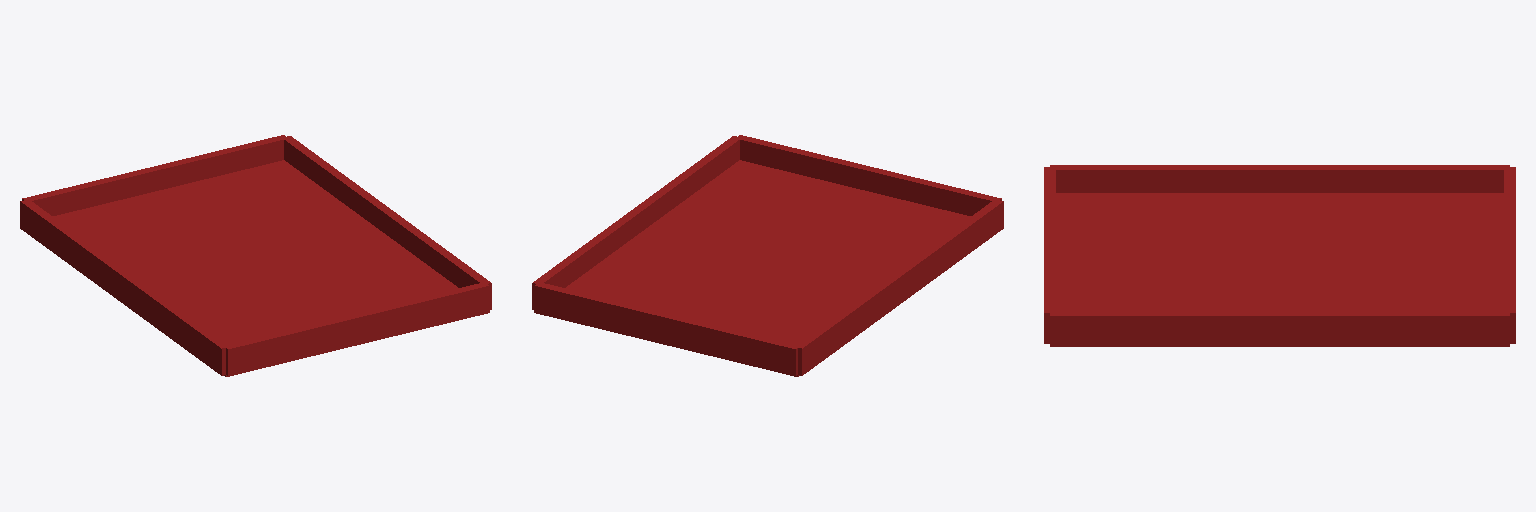
The robot description file, URDF, robot "tray":
<?xml version="1.0"?>
<robot name="tray"
       xmlns:xi="http://www.w3.org/2001/XInclude"
       xmlns:gazebo="http://playerstage.sourceforge.net/gazebo/xmlschema/#gz"
       xmlns:model="http://playerstage.sourceforge.net/gazebo/xmlschema/#model"
       xmlns:sensor="http://playerstage.sourceforge.net/gazebo/xmlschema/#sensor"
       xmlns:body="http://playerstage.sourceforge.net/gazebo/xmlschema/#body"
       xmlns:geom="http://playerstage.sourceforge.net/gazebo/xmlschema/#geom"
       xmlns:joint="http://playerstage.sourceforge.net/gazebo/xmlschema/#joint"
       xmlns:interface="http://playerstage.sourceforge.net/gazebo/xmlschema/#interface"
       xmlns:rendering="http://playerstage.sourceforge.net/gazebo/xmlschema/#rendering"
       xmlns:renderable="http://playerstage.sourceforge.net/gazebo/xmlschema/#renderable"
       xmlns:controller="http://playerstage.sourceforge.net/gazebo/xmlschema/#controller"
       xmlns:physics="http://playerstage.sourceforge.net/gazebo/xmlschema/#physics">
  <gazebo>
    <static>false</static>
  </gazebo>
  <link name="nil_link">
    <visual>
      <origin xyz="0 0 0" rpy="0 -0 0"/>
      <geometry>
        <mesh filename="model://tray/meshes/nil_link_mesh.dae" scale="1 1 1" />
      </geometry>
    </visual>
    <collision>
      <origin xyz="0 0 0" rpy="0 -0 0"/>
      <geometry>
        <mesh filename="model://tray/meshes/nil_link_mesh.dae" scale="1 1 1" />
      </geometry>
    </collision>
    <inertial>
      <mass value="0.001" />
      <origin xyz="0 0 0" rpy="0 -0 0"/>
      <inertia ixx="1e-09" ixy="0" ixz="0" iyy="1e-09" iyz="0" izz="1e-09"/>
    </inertial>
  </link>
  <gazebo reference="nil_link">
    <mu1>0.9</mu1>
    <mu2>0.9</mu2>
  </gazebo>
</robot>

--- What the picture shows (computed from the rendered views, not written in the file) ---
Views: 3 orthographic renders of the robot side by side, from view 1: azimuth 30°, elevation 25°; view 2: azimuth 150°, elevation 25°; view 3: azimuth 270°, elevation 25°.
Robot: tray — 1 links, 0 joints (none); root link nil_link; default pose: every joint at zero.
Visible links, largest first — view 1: nil_link; view 2: nil_link; view 3: nil_link.
Boxes of the visible links, left/top/right/bottom form: nil_link: left=20, top=135, right=491, bottom=376; nil_link: left=532, top=135, right=1003, bottom=376; nil_link: left=1044, top=165, right=1515, bottom=346.
Bounding box of the posed robot: 0.31 × 0.41 × 0.0325 m (x, y, z).
Meshes: 1 distinct files referenced, 1 mesh visuals loaded (1 Collada DAE).
